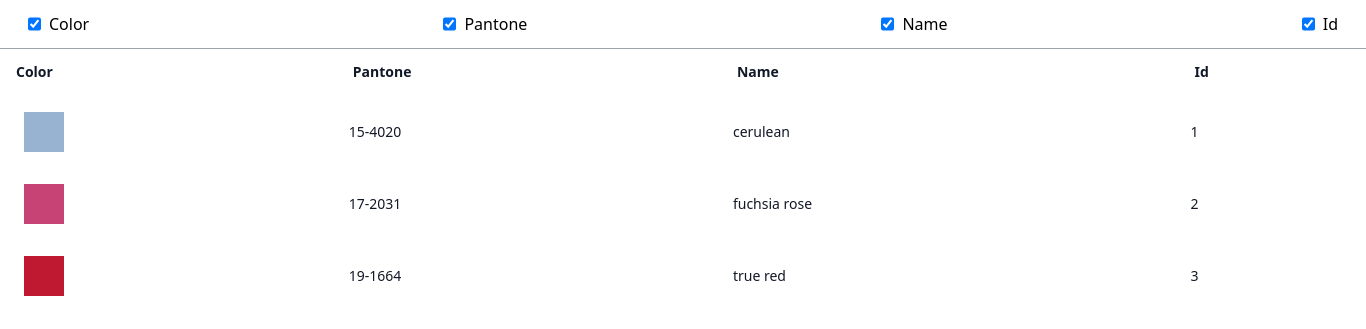
Test: Checkbox functionality impacts display table
Expected: the number of column headings is 4, [0, 48, 337, 96]; [337, 48, 721, 96]; [721, 48, 1178, 96]; [1178, 48, 1365, 96]
Expected: the number of rows is 4, [0, 48, 1365, 96]; [0, 96, 1365, 168]; [0, 168, 1365, 240]; [0, 240, 1365, 312]
# Uncheck the checkbox
Click the checkbox labelled "Pantone": (450, 24) [443, 12, 456, 36]
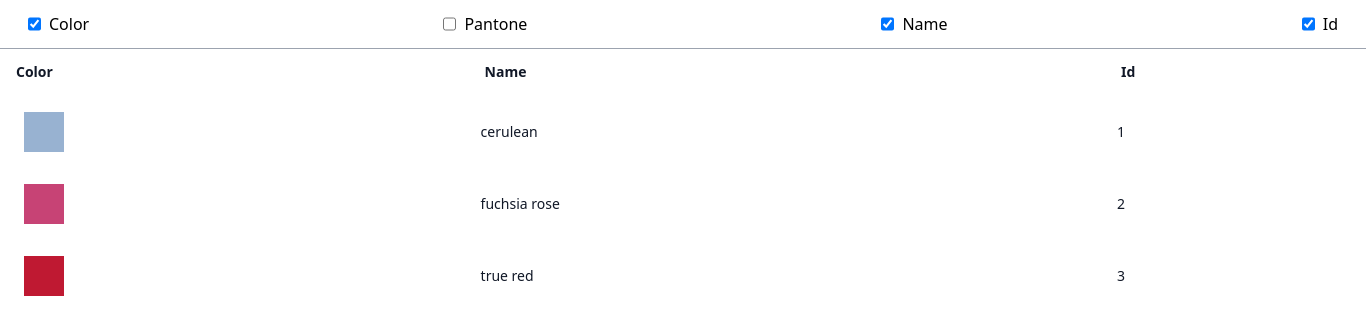
Expected: the checkbox labelled "Pantone" is not checked
Expected: the number of column headings is 3, [0, 48, 469, 96]; [469, 48, 1105, 96]; [1105, 48, 1365, 96]
# Re-check the checkbox
Click the checkbox labelled "Pantone": (450, 24) [443, 12, 456, 36]
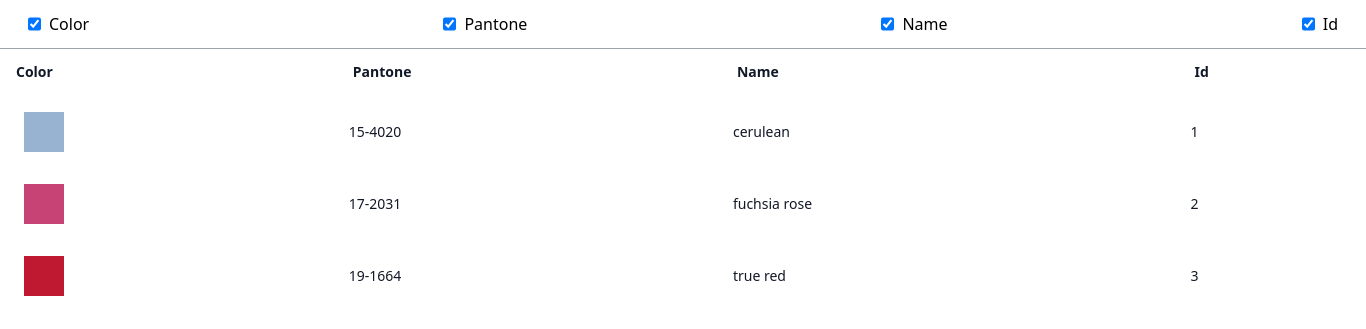
Expected: the checkbox labelled "Pantone" is checked, [443, 12, 456, 36]
Expected: the number of column headings is 4, [0, 48, 337, 96]; [337, 48, 721, 96]; [721, 48, 1178, 96]; [1178, 48, 1365, 96]
Expected: the column heading "Pantone" is shown, [337, 48, 721, 96]
